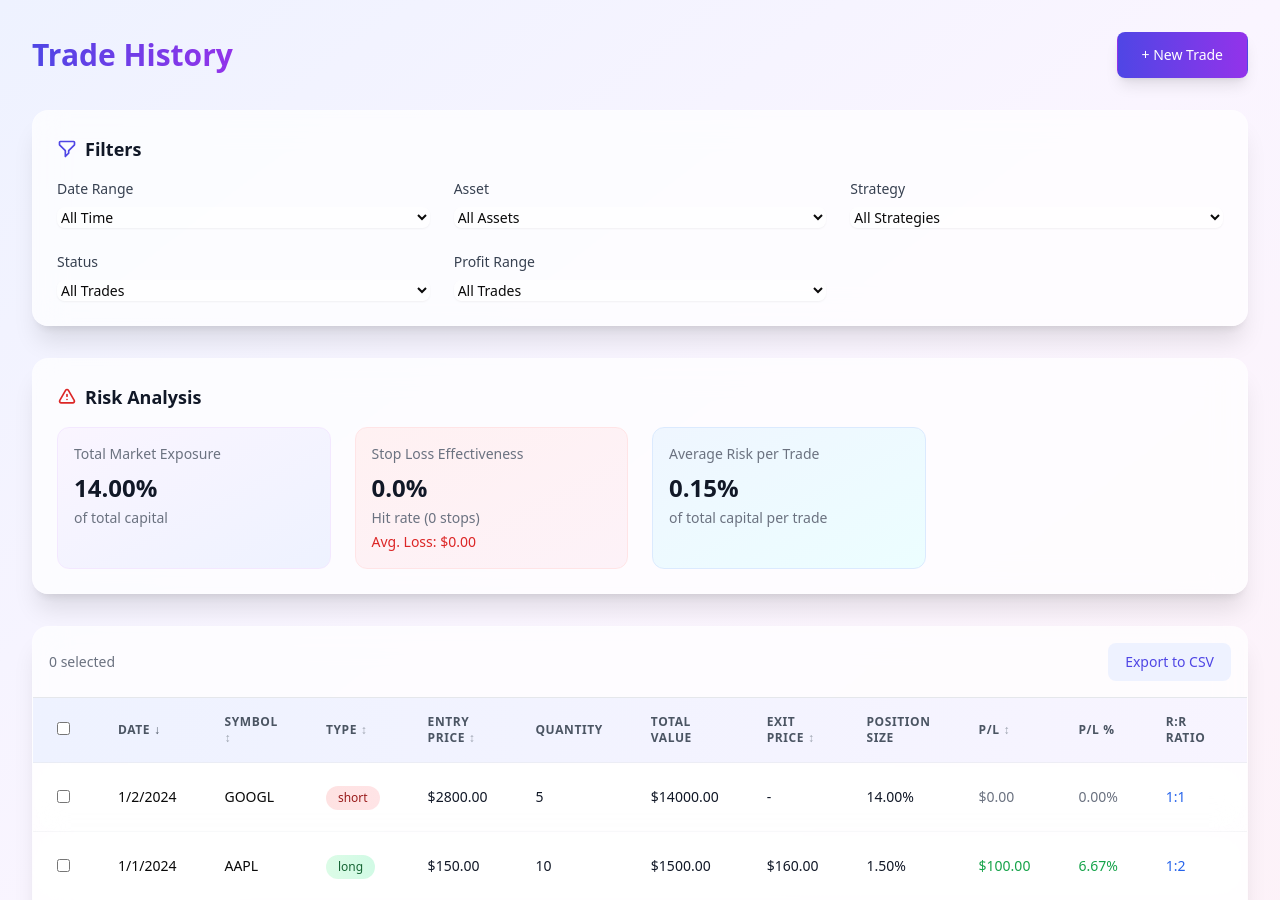
Test: TradeHistory Component › filters trades by asset
This screenshot has width=1280, height=900.
Check: the text "AAPL" is shown, box [200,832,302,899]
Note: Select AAPL from asset filter
Select "AAPL" in the dropdown labelled "Asset" at (640, 218), box [454,207,826,228]
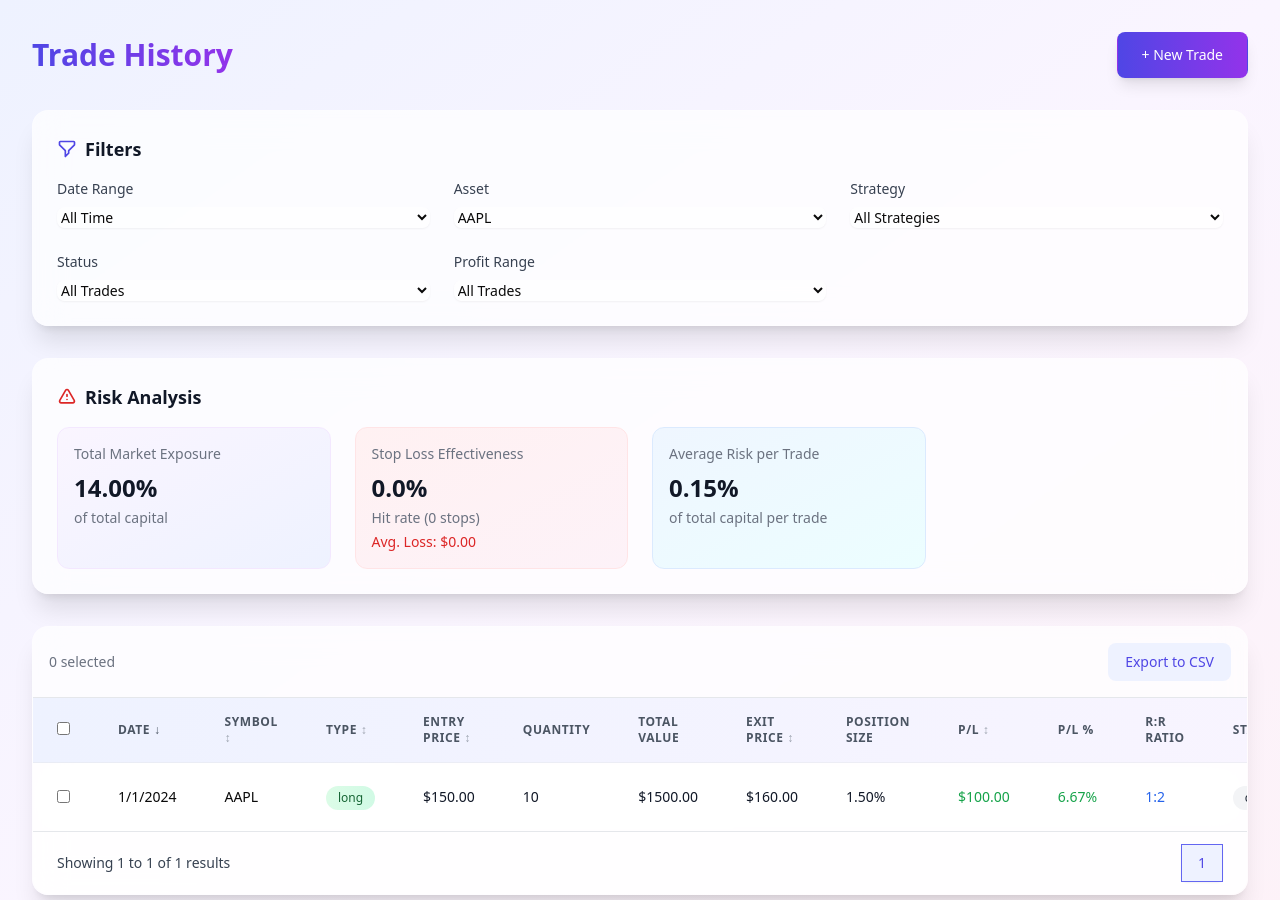
Check: the text "AAPL" is shown, box [200,762,302,831]
Check: the text "GOOGL" is gone
